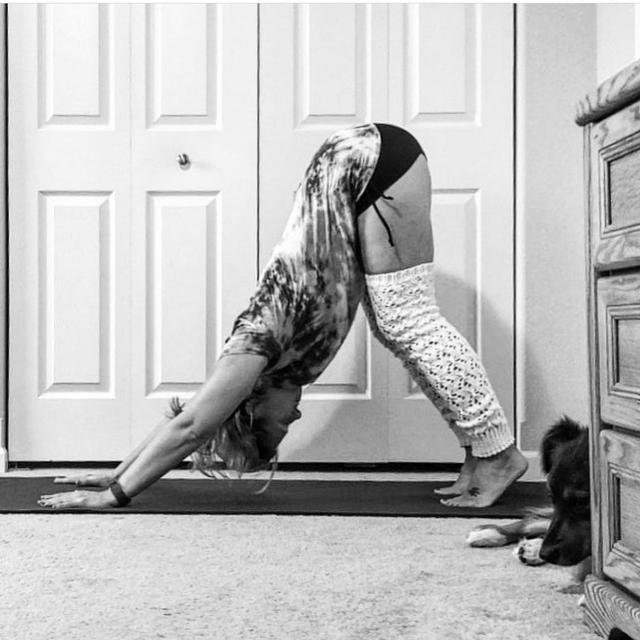Downward-Facing_Dog: (35, 119, 532, 514)
